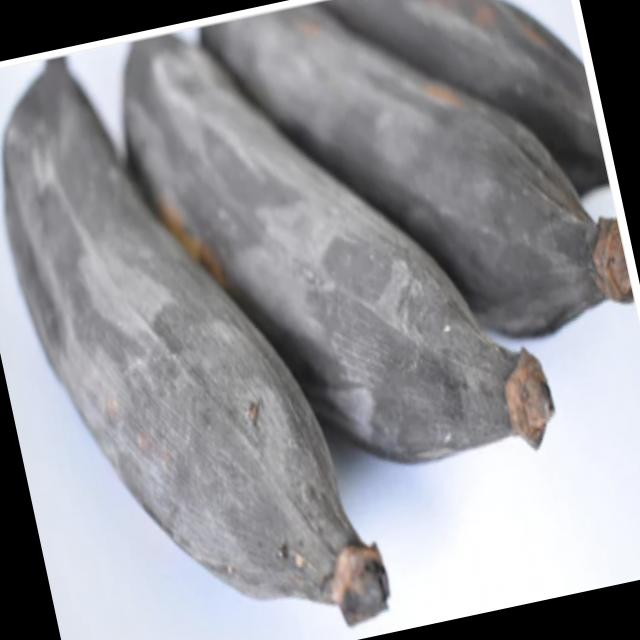rotten-banana: (0, 39, 369, 640), (142, 0, 476, 479), (273, 0, 620, 359)
